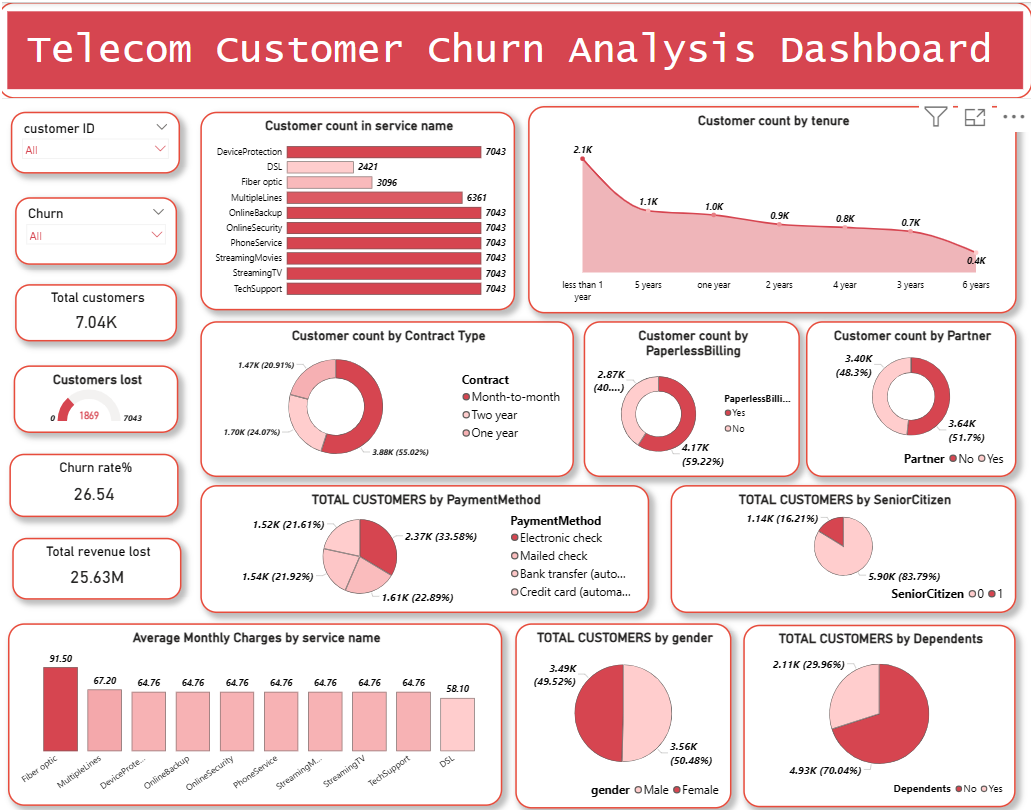

The page's visual inventory and layout, read from the dashboard file:
{"tool":"powerbi","page":{"name":"page 1","canvas":[1900,1500],"ordinal":0},"visuals":[{"type":"barChart","title":"Customer count in service name","fields":{"Category":["churntable.service_name"],"Y":["Count(churntable.customerID)"]},"box":[373,202.7,578.4,364.9],"z":0},{"type":"donutChart","title":"Customer count by Contract Type","fields":{"Category":["churntable.Contract"],"Y":["Measure.TOTAL CUSTOMERS"]},"box":[373,586.5,686.5,286.5],"z":1000},{"type":"lineChart","title":"Customer count by tenure ","fields":{"Category":["churntable.tenure group"],"Y":["Measure.TOTAL CUSTOMERS"]},"box":[973,191.9,897.3,381.1],"z":2000},{"type":"card","title":"Churn rate%","fields":{"Values":["Measure.churn rate"]},"box":[21.6,829.7,310.8,116.2],"z":3000},{"type":"card","title":"Total revenue lost","fields":{"Values":["Measure.monthly revenue lost"]},"box":[27,983.8,310.8,113.5],"z":4000},{"type":"pieChart","fields":{"Category":["churntable.PaymentMethod"],"Y":["Measure.TOTAL CUSTOMERS"]},"box":[373,886.5,824.3,235.1],"z":5000},{"type":"donutChart","title":"Customer count by PaperlessBilling","fields":{"Category":["churntable.PaperlessBilling"],"Y":["Measure.TOTAL CUSTOMERS"]},"box":[1075.7,586.5,397.3,286.5],"z":6000},{"type":"columnChart","title":"Average Monthly Charges by service name","fields":{"Category":["churntable.service_name"],"Y":["Avg(churntable.MonthlyCharges)"]},"box":[18.9,1140.5,908.1,335.1],"z":7000},{"type":"ScrollingTextVisual1448795304508","title":"Telecom Customer Churn Analysis Dashboard","fields":{"Category":["Measure.Column"]},"box":[0,0,1900,177.5],"z":8000},{"type":"card","title":"Total customers","fields":{"Values":["Measure.TOTAL CUSTOMERS"]},"box":[32.4,518.9,297.3,105.4],"z":9000},{"type":"gauge","title":"Customers lost","fields":{"Y":["Measure.Count Churn Only"]},"box":[29.7,667.6,302.7,124.3],"z":10000},{"type":"slicer","fields":{"Values":["churntable.customerID"]},"box":[24.3,202.7,310.8,113.5],"z":11000},{"type":"donutChart","title":"Customer count by Partner","fields":{"Category":["churntable.Partner"],"Y":["Measure.TOTAL CUSTOMERS"]},"box":[1483.8,586.5,386.5,286.5],"z":12000},{"type":"pieChart","fields":{"Category":["churntable.Dependents"],"Y":["Measure.TOTAL CUSTOMERS"]},"box":[1370.3,1143.2,500,335.1],"z":13000},{"type":"pieChart","fields":{"Category":["churntable.gender"],"Y":["Measure.TOTAL CUSTOMERS"]},"box":[951.4,1140.5,397.3,340.5],"z":14000},{"type":"pieChart","fields":{"Category":["churntable.SeniorCitizen"],"Y":["Measure.TOTAL CUSTOMERS"]},"box":[1235.1,886.5,635.1,235.1],"z":15000},{"type":"slicer","fields":{"Values":["churntable.Churn"]},"box":[32.4,359.5,297.3,124.3],"z":15001}]}

Visuals, with their boxes in screenshot pixels (x1, y1, x2, y2), scaled from the page's 1900x1500 canvas onto the 1033x812 screenshot:
"Customer count in service name" barChart: bbox(203, 110, 517, 307)
"Customer count by Contract Type" donutChart: bbox(203, 317, 576, 473)
"Customer count by tenure " lineChart: bbox(529, 104, 1017, 310)
"Churn rate%" card: bbox(12, 449, 181, 512)
"Total revenue lost" card: bbox(15, 533, 184, 594)
pieChart - churntable.PaymentMethod x Measure.TOTAL CUSTOMERS: bbox(203, 480, 651, 607)
"Customer count by PaperlessBilling" donutChart: bbox(585, 317, 801, 473)
"Average Monthly Charges by service name" columnChart: bbox(10, 617, 504, 799)
"Telecom Customer Churn Analysis Dashboard" ScrollingTextVisual1448795304508: bbox(0, 0, 1032, 96)
"Total customers" card: bbox(18, 281, 179, 338)
"Customers lost" gauge: bbox(16, 361, 181, 429)
slicer - churntable.customerID: bbox(13, 110, 182, 171)
"Customer count by Partner" donutChart: bbox(807, 317, 1017, 473)
pieChart - churntable.Dependents x Measure.TOTAL CUSTOMERS: bbox(745, 619, 1017, 800)
pieChart - churntable.gender x Measure.TOTAL CUSTOMERS: bbox(517, 617, 733, 802)
pieChart - churntable.SeniorCitizen x Measure.TOTAL CUSTOMERS: bbox(672, 480, 1017, 607)
slicer - churntable.Churn: bbox(18, 195, 179, 262)
